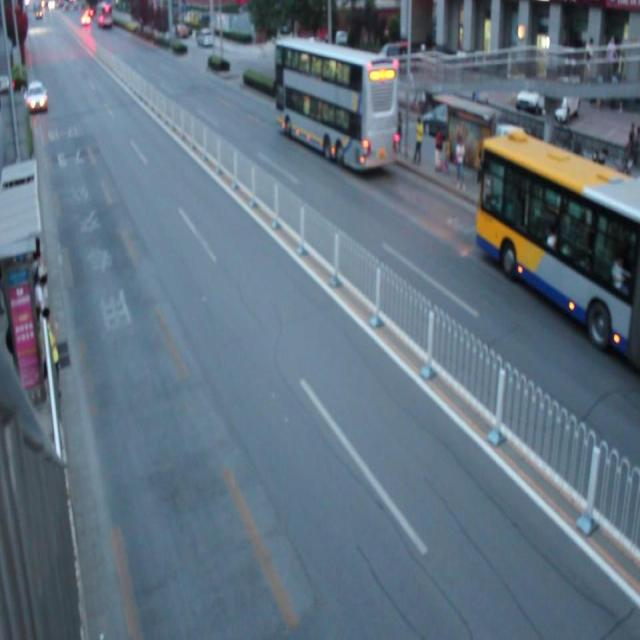van: (474, 135, 640, 359), (272, 38, 398, 172)
